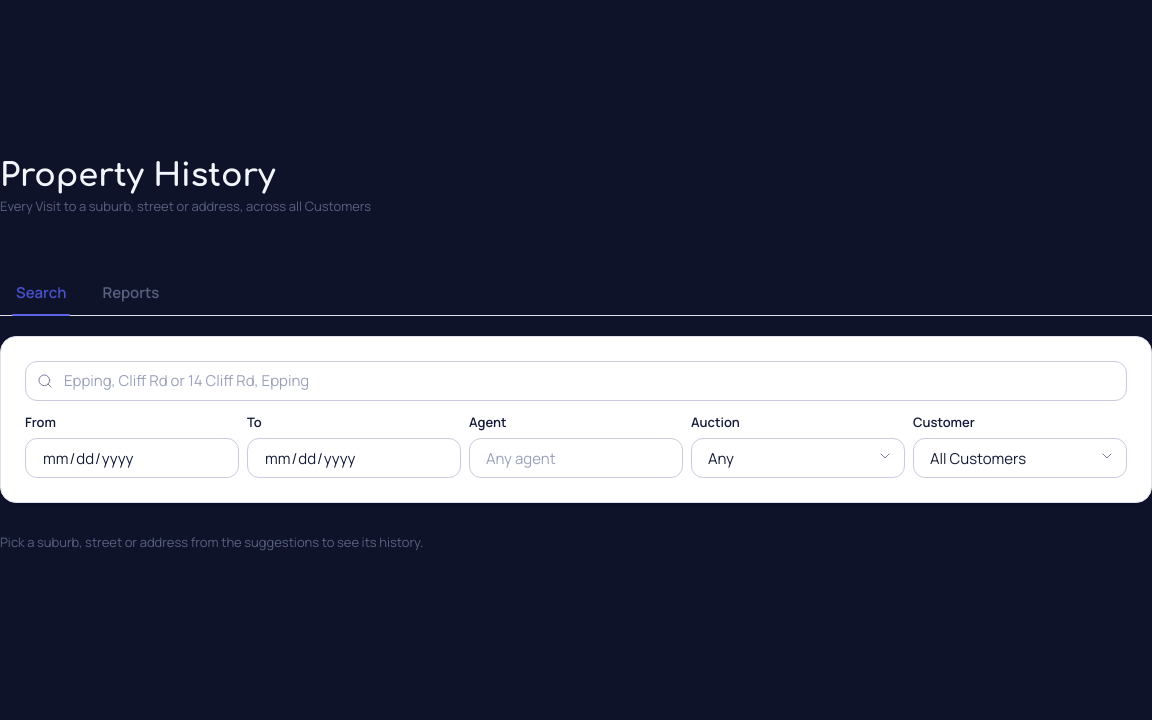
it: Administrator Property History page › jumps from a row to another Property on the same Route
Step 1. Type "epping" into the dropdown named "Suburb, street or address" → (576, 381), box [25,361,1127,401]
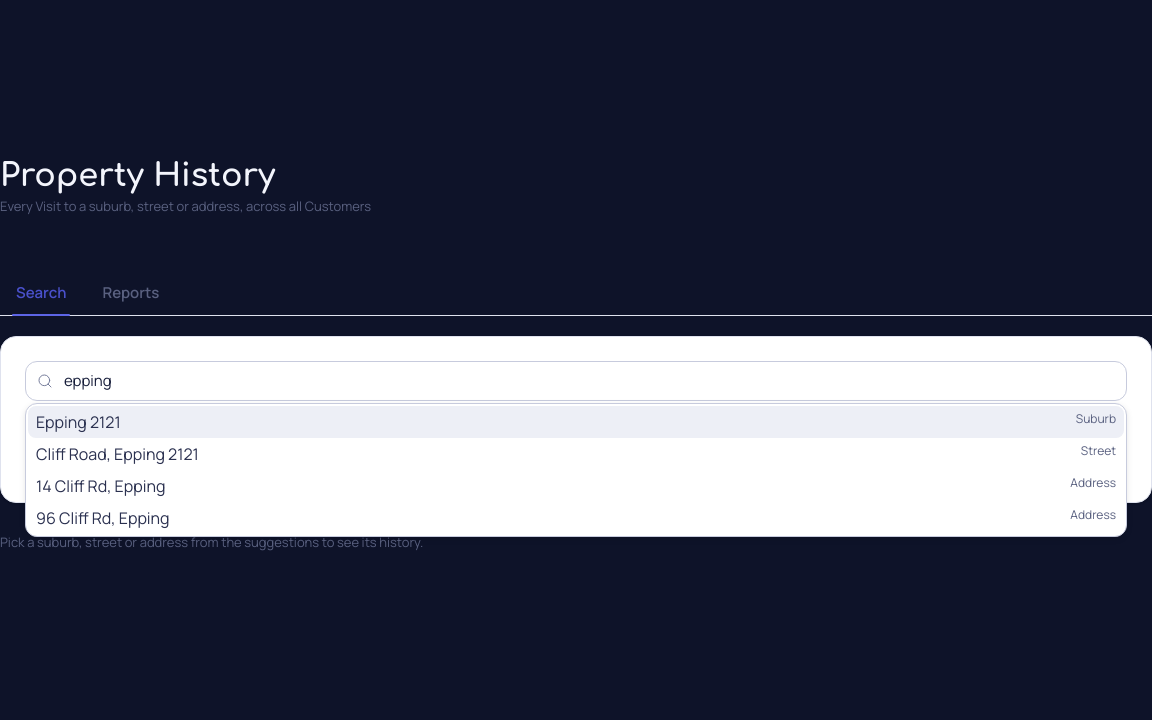
Step 2. Click the option "Epping 2121 Suburb" → (78, 422), box [28,406,1124,438]
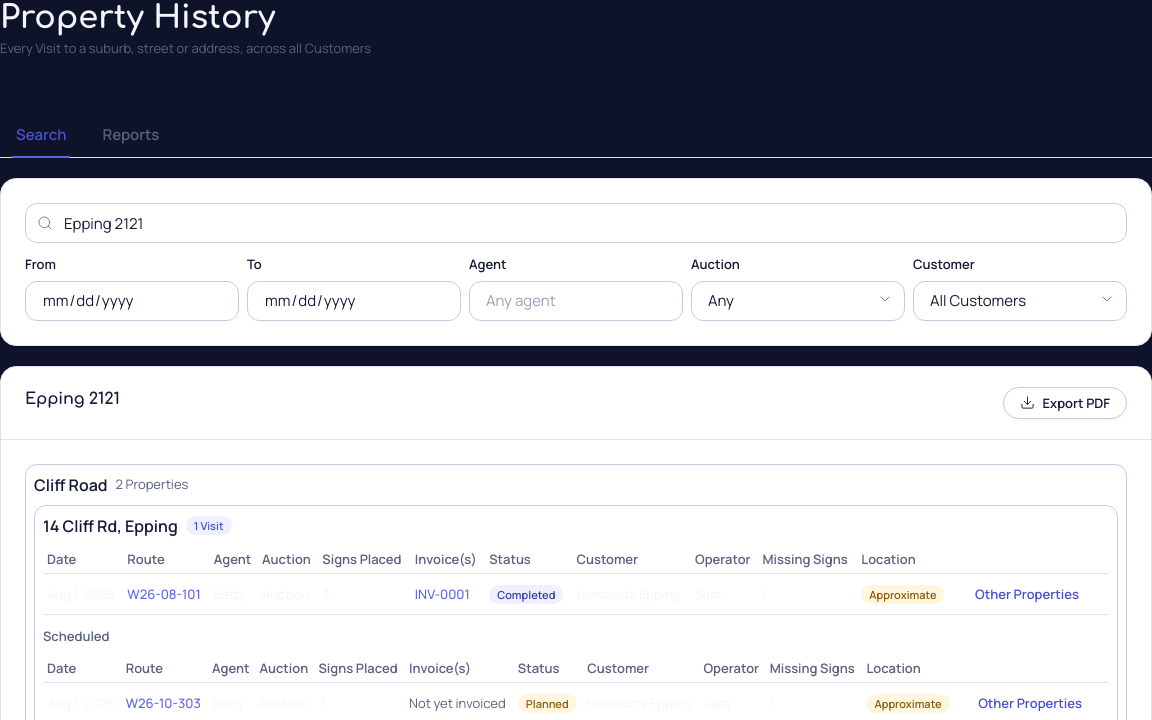
Step 3. Click the button with aria-label "Other Properties on W26-08-101" → (1027, 594), box [958,578,1096,610]
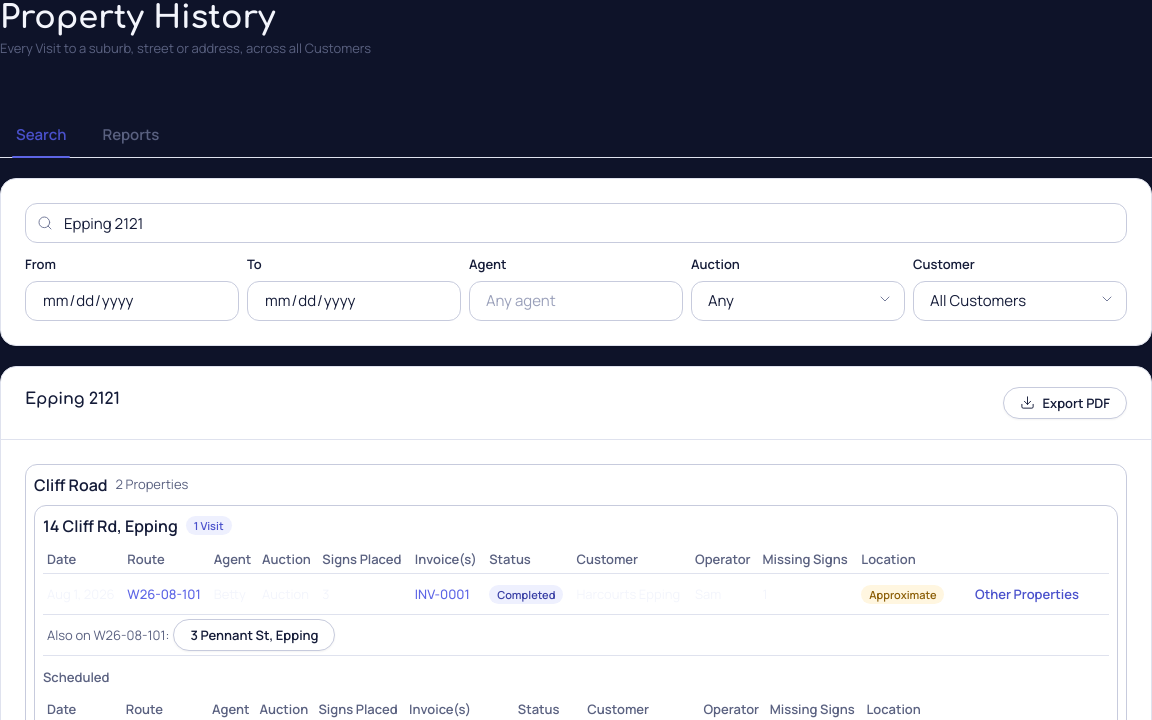
Step 4. Click the button "3 Pennant St, Epping" → (254, 635), box [173,619,336,651]
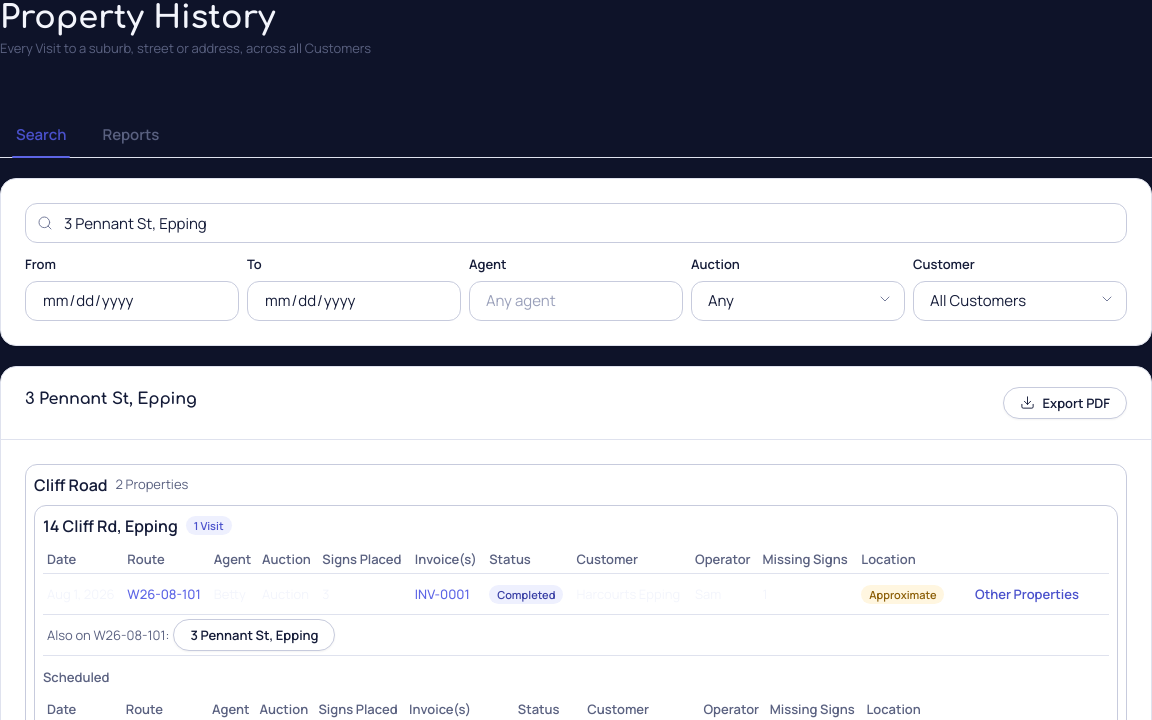
expect the dropdown named "Suburb, street or address" holds "3 Pennant St, Epping": met, box [25,203,1127,243]
